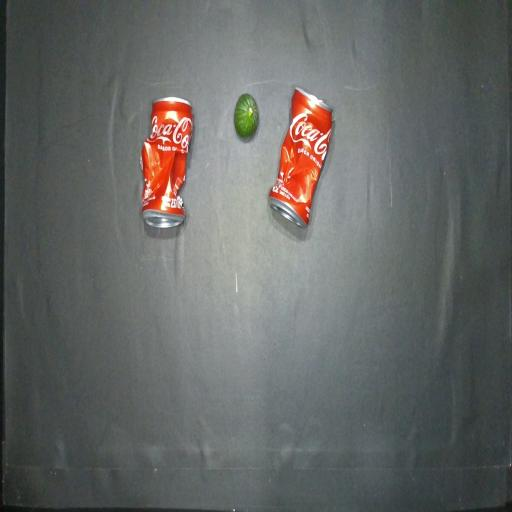higo: (234, 93, 259, 137)
lata_defectuoso: (268, 87, 332, 227), (140, 97, 193, 227)
